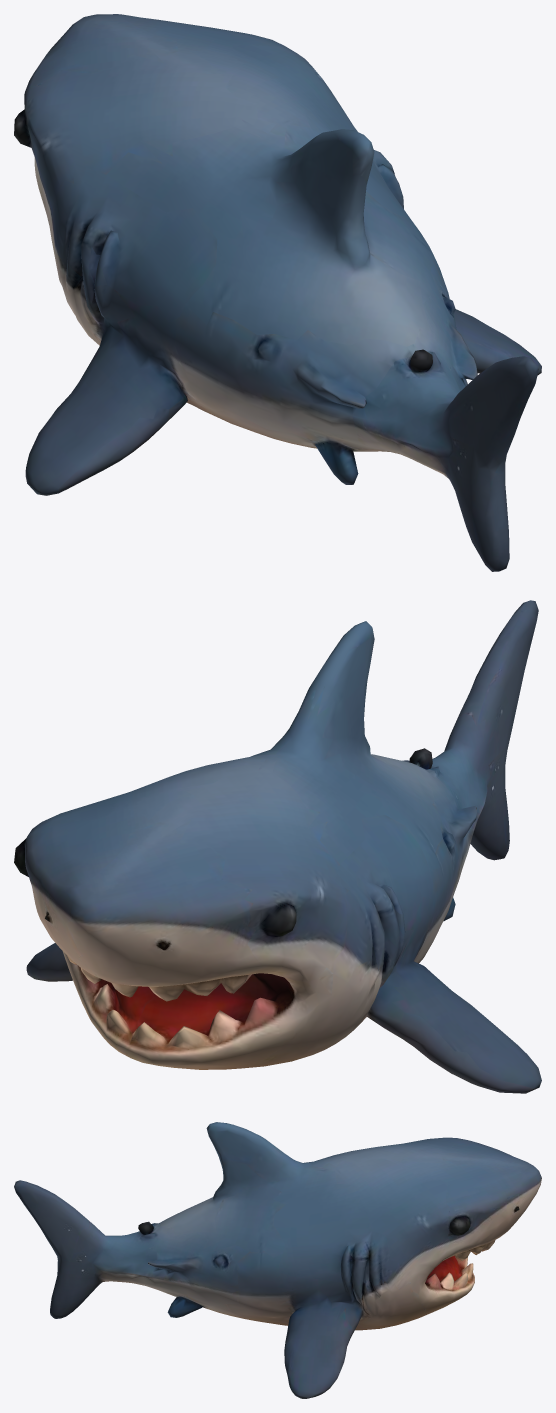
File: bossshark.glb
3 views of the same model, one above another, from view 1: azimuth 30°, elevation 25°; view 2: azimuth 150°, elevation 25°; view 3: azimuth 270°, elevation 25° (orthographic). The views are drawn at different scales.
Visible parts, largest first — view 1: tripo_node_191c27ae-34e5-4501-b33c-212d794de456; view 2: tripo_node_191c27ae-34e5-4501-b33c-212d794de456; view 3: tripo_node_191c27ae-34e5-4501-b33c-212d794de456.
Boxes of the visible parts, bbox=[...] form: tripo_node_191c27ae-34e5-4501-b33c-212d794de456: bbox=[14, 14, 541, 571]; tripo_node_191c27ae-34e5-4501-b33c-212d794de456: bbox=[14, 600, 541, 1093]; tripo_node_191c27ae-34e5-4501-b33c-212d794de456: bbox=[14, 1122, 541, 1398].
Size of the model in its own units: 0.6477 by 0.4307 by 1.
Materials: 1 (1 with a texture image).
